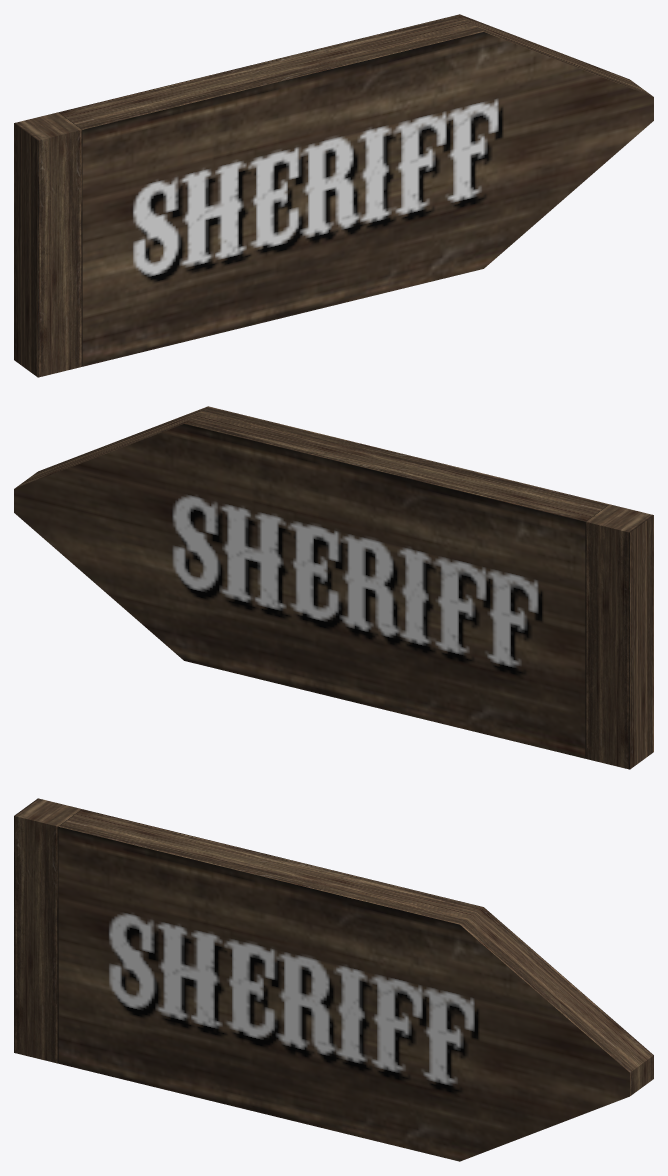
File: wooden-sign-02.fbx
3 views of the same model, one above another, from view 1: azimuth 30°, elevation 25°; view 2: azimuth 150°, elevation 25°; view 3: azimuth 330°, elevation 25° (orthographic).
Parts seen in each view (by area): view 1: Cube.249; view 2: Cube.249; view 3: Cube.249.
Part boxes in pixels (bbox=[...]): Cube.249: bbox=[14, 14, 653, 377]; Cube.249: bbox=[14, 406, 653, 769]; Cube.249: bbox=[14, 798, 653, 1161].
Size of the model in its own units: 0.8128 by 0.2988 by 0.0549.
